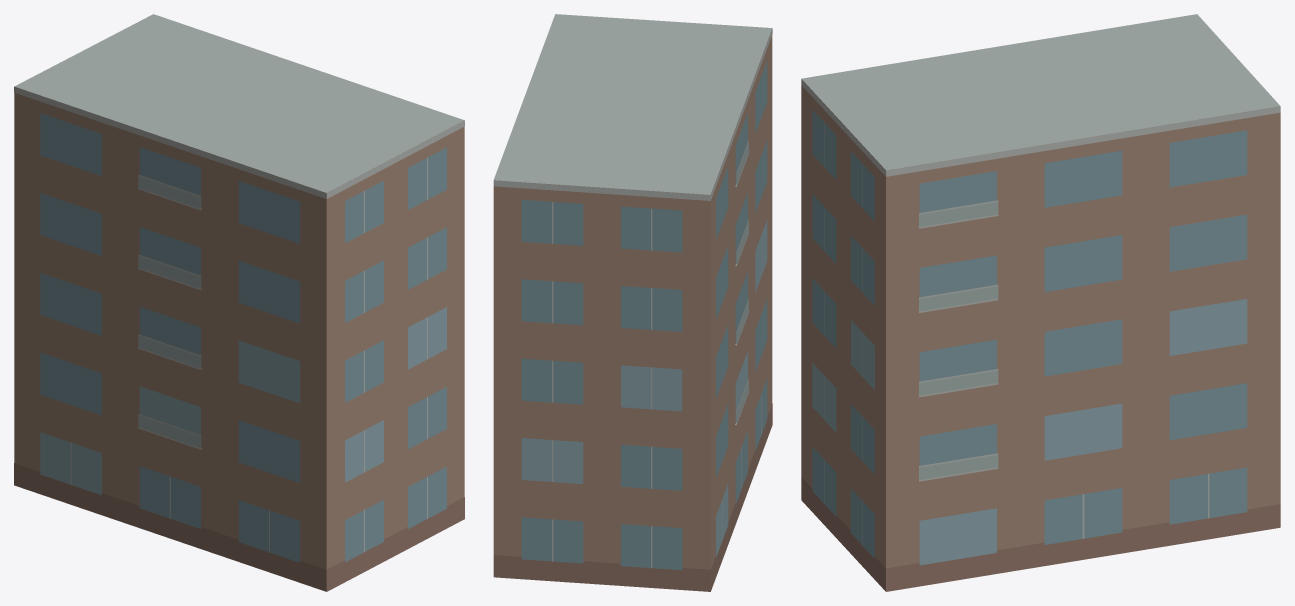
The model's file is survey-upis-32841096.glb.
The picture shows the model from 3 angles, left to right: view 1: azimuth 30°, elevation 25°; view 2: azimuth 150°, elevation 25°; view 3: azimuth 270°, elevation 25°; orthographic projection. The views are drawn at different scales.
Parts seen in each view (by area): view 1: survey-upis-32841096.tmp; view 2: survey-upis-32841096.tmp; view 3: survey-upis-32841096.tmp.
Boxes of the visible parts, x1,y1,x2,y2 form: survey-upis-32841096.tmp: (14, 14, 464, 591); survey-upis-32841096.tmp: (493, 14, 772, 591); survey-upis-32841096.tmp: (801, 14, 1280, 591).
Size of the model in its own units: 12.7 by 15.95 by 16.45.
